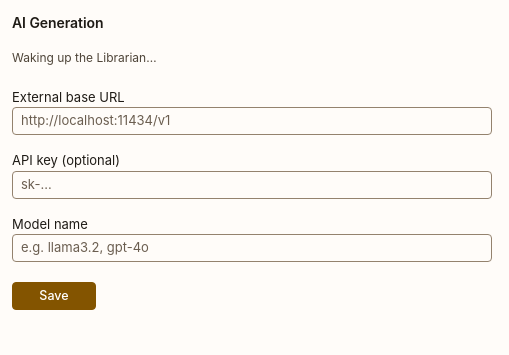
GenerationPanel › shows red toast on settings save failure
Type "http://localhost:8080/v1" into the field with placeholder "http://localhost:11434/v1" at (252, 121), box [12,107,492,135]
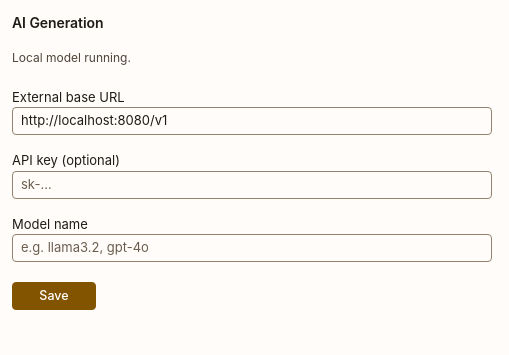
Click the button "Save" at (54, 296), box [12,282,96,310]
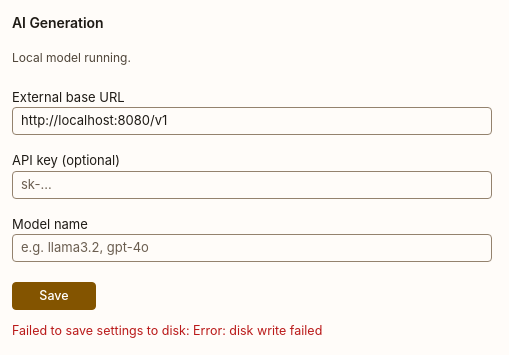
Expected: the text "Failed to save settings to disk: Error: disk write failed" is shown, [12,323,322,338]
